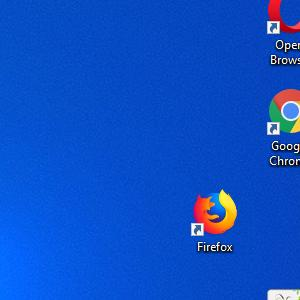firefox: (190, 188, 238, 237)
